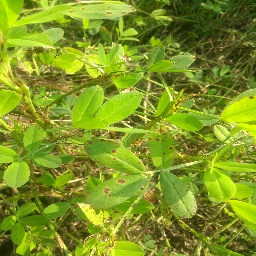GroundNut_Leaf: (83, 140, 145, 173), (88, 176, 145, 210), (159, 171, 197, 221), (220, 87, 255, 138), (148, 43, 196, 73), (66, 1, 136, 21), (98, 92, 143, 123), (147, 123, 176, 168), (7, 26, 63, 48), (205, 169, 237, 202), (69, 85, 96, 121), (1, 161, 31, 188), (96, 40, 120, 66), (24, 123, 43, 155), (1, 89, 24, 115), (111, 240, 145, 256), (45, 202, 68, 221), (15, 201, 36, 219)
